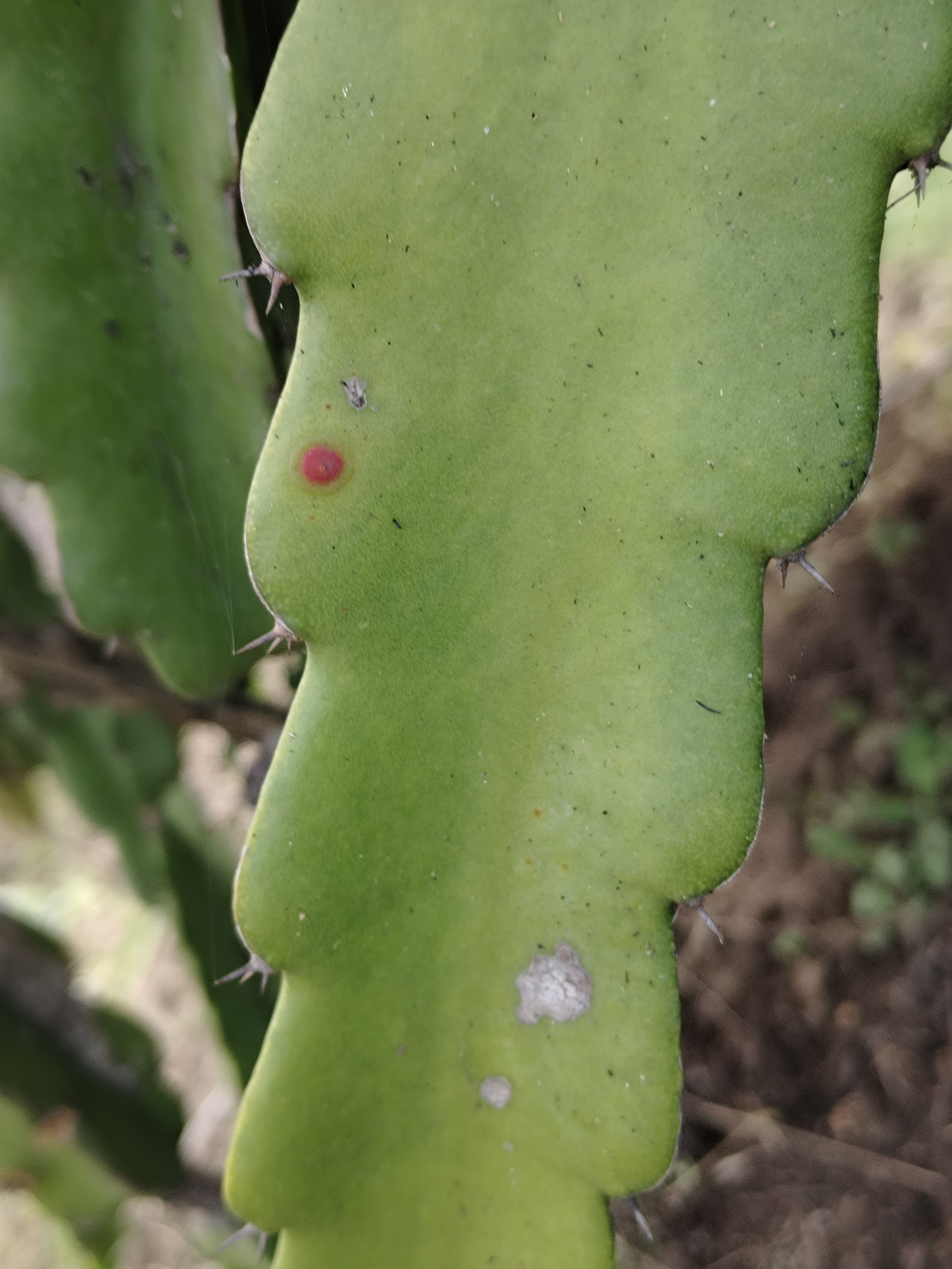stemcanker: (503, 932, 599, 1029), (288, 435, 355, 494), (333, 368, 380, 418), (476, 1073, 517, 1112)
